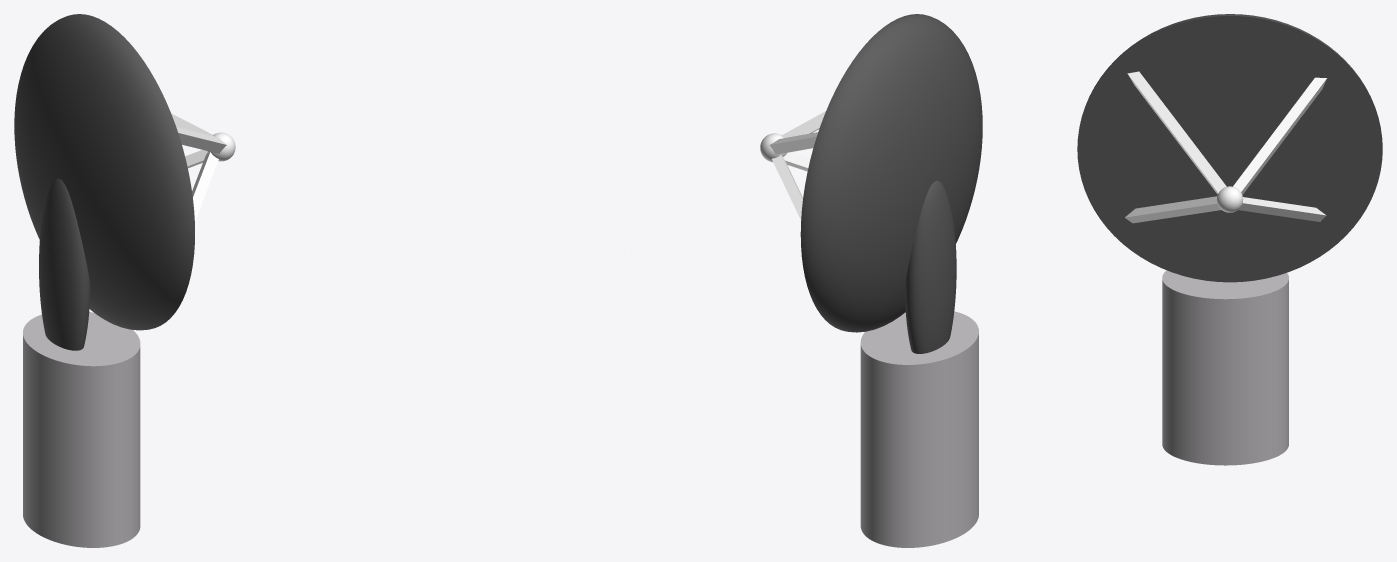
File: radar.fbx
3 renders of one model, left to right at view 1: azimuth 30°, elevation 25°; view 2: azimuth 150°, elevation 25°; view 3: azimuth 270°, elevation 25°, orthographic. The views are drawn at different scales.
Visible parts, largest first — view 1: node_id278, node_id273, node_id283, node_id262, node_id257; view 2: node_id278, node_id273, node_id283, node_id267, node_id252, node_id257; view 3: node_id278, node_id273, node_id252, node_id257, node_id262, node_id267, node_id247.
Boxes of the visible parts, bbox=[...] form: node_id278: bbox=[14, 14, 194, 330]; node_id273: bbox=[23, 312, 140, 547]; node_id283: bbox=[39, 178, 90, 350]; node_id262: bbox=[192, 152, 218, 221]; node_id257: bbox=[176, 127, 226, 153]; node_id278: bbox=[800, 14, 982, 332]; node_id273: bbox=[860, 311, 978, 547]; node_id283: bbox=[905, 180, 956, 353]; node_id267: bbox=[772, 155, 802, 220]; node_id252: bbox=[769, 132, 818, 154]; node_id257: bbox=[781, 111, 825, 137]; node_id278: bbox=[1077, 14, 1382, 282]; node_id273: bbox=[1162, 270, 1288, 465]; node_id252: bbox=[1233, 77, 1326, 194]; node_id257: bbox=[1127, 71, 1226, 194]; node_id262: bbox=[1125, 196, 1221, 223]; node_id267: bbox=[1238, 197, 1326, 221]; node_id247: bbox=[1216, 186, 1243, 212].
Bounding box in the file's own units: 0.4995 × 0.512 × 0.3893.
Materials: 9 (3 with a texture image).
